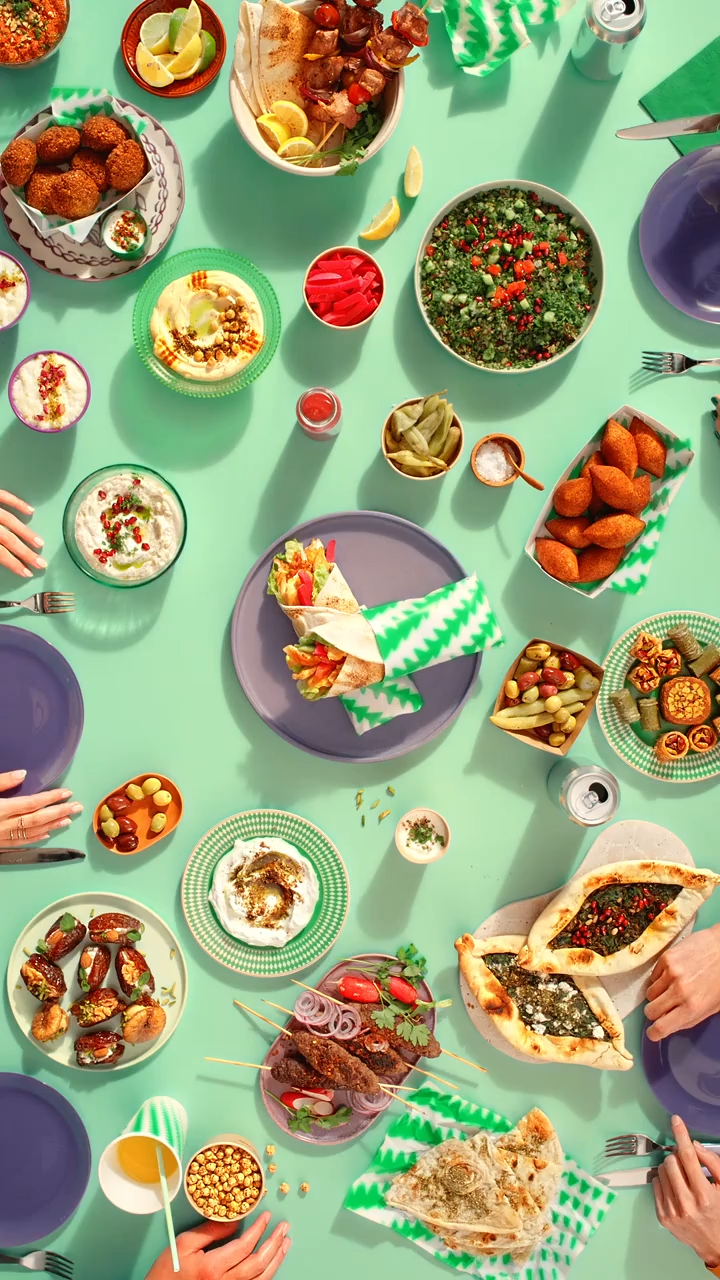Product: (0, 0, 716, 1277)
